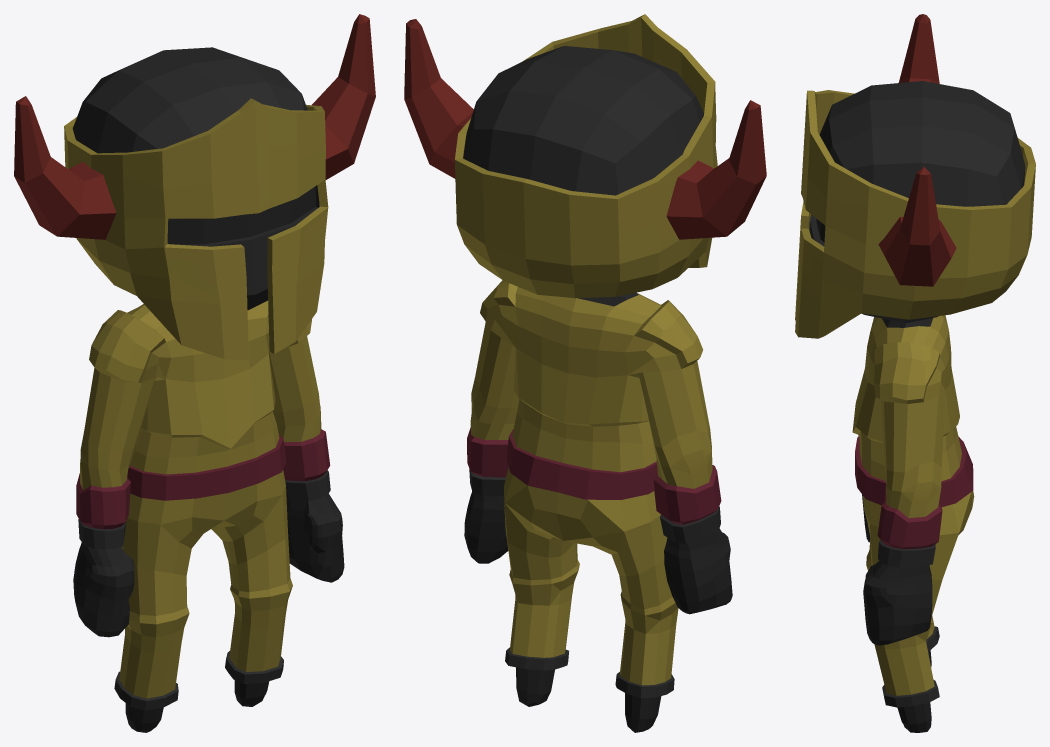
File: boneco2.fbx
3 views of the same model, side by side, from view 1: azimuth 30°, elevation 25°; view 2: azimuth 150°, elevation 25°; view 3: azimuth 270°, elevation 25° (orthographic). The views are drawn at different scales.
Parts seen in each view (by area): view 1: Body.061; view 2: Body.061; view 3: Body.061.
Part boxes in pixels (left/top/right/bottom): Body.061: left=14, top=14, right=375, bottom=732; Body.061: left=404, top=14, right=766, bottom=732; Body.061: left=795, top=14, right=1035, bottom=732.
Bounding box in the file's own units: 176 × 316 × 112.
